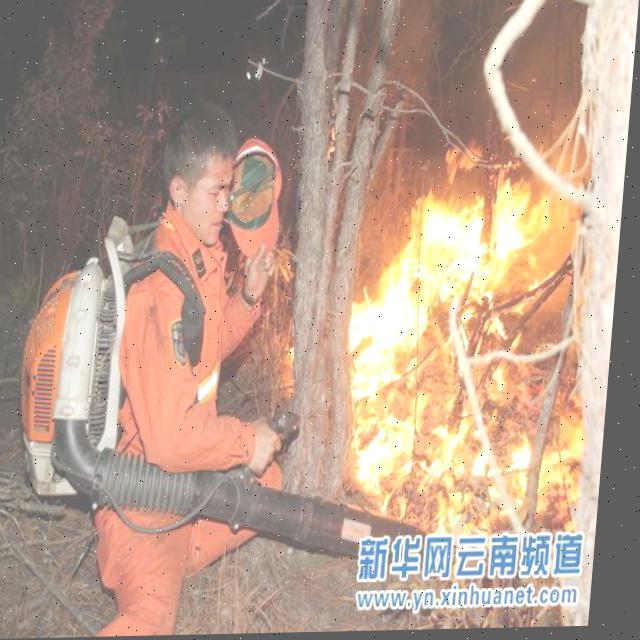Fire: (348, 158, 616, 532)
